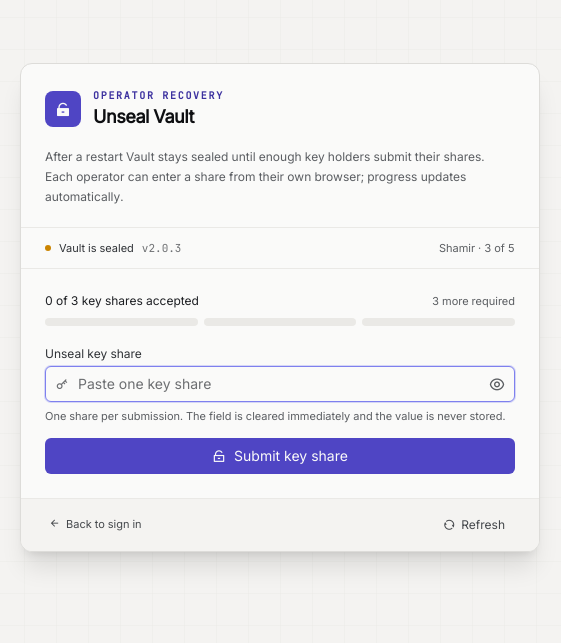
Test case: UnsealPage › collects shares one by one until Vault is unsealed
The image size is (561, 643).
expect the heading "Unseal Vault" is shown: met, box [93,102,194,130]
expect the text "Shamir · 3 of 5" is shown: met, box [439,240,515,256]
Type "9f86d081884c7d659a2feaa0c55ad015a3bf4f1b2b0b822cd15d6c15b0f00a08aa" into the password field labelled "Unseal key share" at (280, 384), box [45,366,515,402]
Click the button "Submit key share" at (280, 456), box [45,438,515,474]
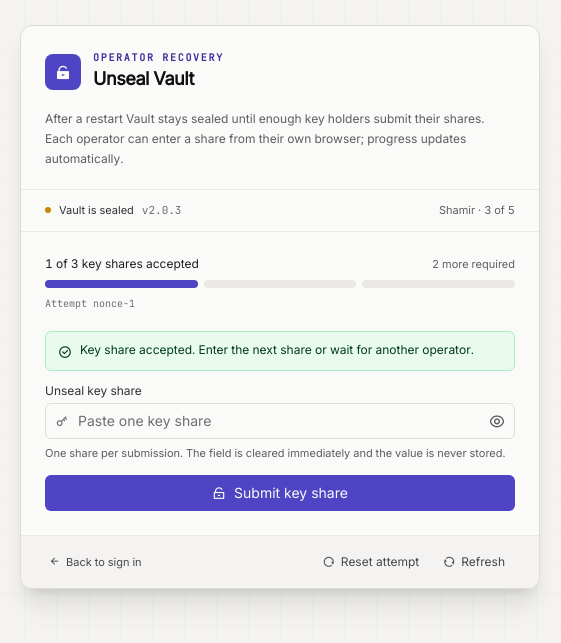
expect the text "Key share accepted" is shown: met, box [80,342,474,357]
expect the password field labelled "Unseal key share" is empty: met
Type "9f86d081884c7d659a2feaa0c55ad015a3bf4f1b2b0b822cd15d6c15b0f00a08aa" into the password field labelled "Unseal key share" at (280, 421), box [45,403,515,439]
Click the button "Submit key share" at (280, 493), box [45,475,515,511]
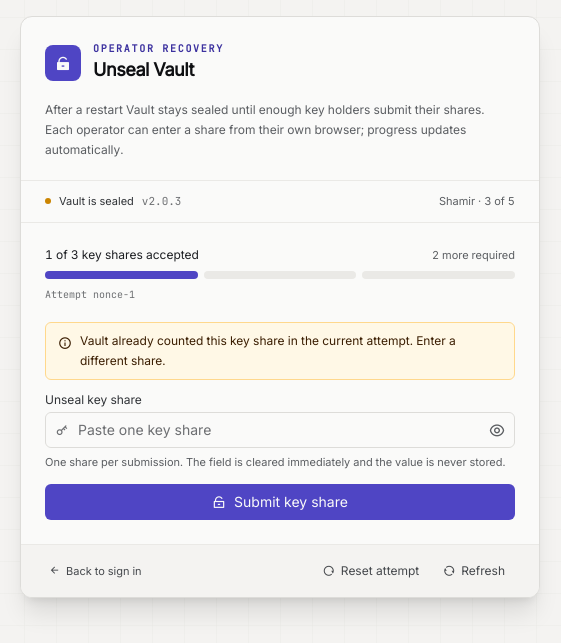
expect the text "already counted this key share" is shown: met, box [80,333,456,368]
Type "60303ae22b998861bce3b28f33eec1be758a213c86c93c076dbe9f558c11c752bb" into the password field labelled "Unseal key share" at (280, 430), box [45,412,515,448]
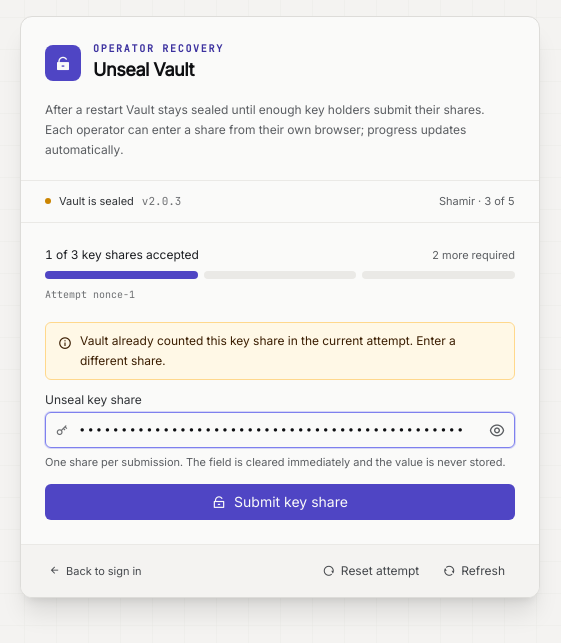
Click the button "Submit key share" at (280, 502), box [45,484,515,520]
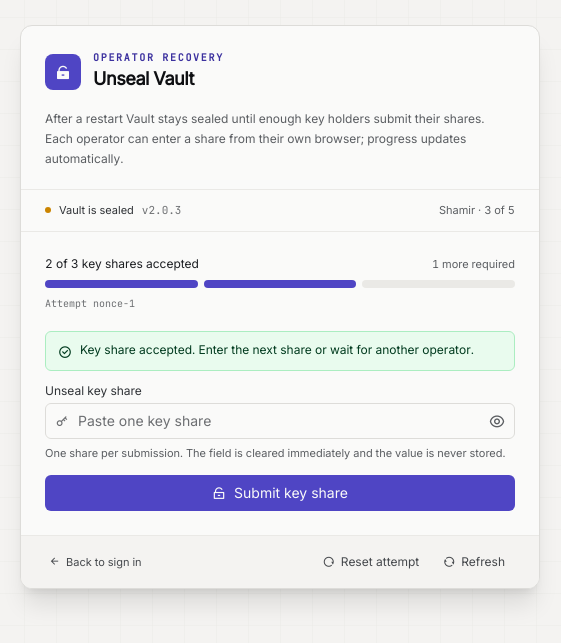
Type "fd61a03af4f77d870fc21e05e7e80678095c92d808cfb3b5c279ee04c74aca13cc" into the password field labelled "Unseal key share" at (280, 421), box [45,403,515,439]
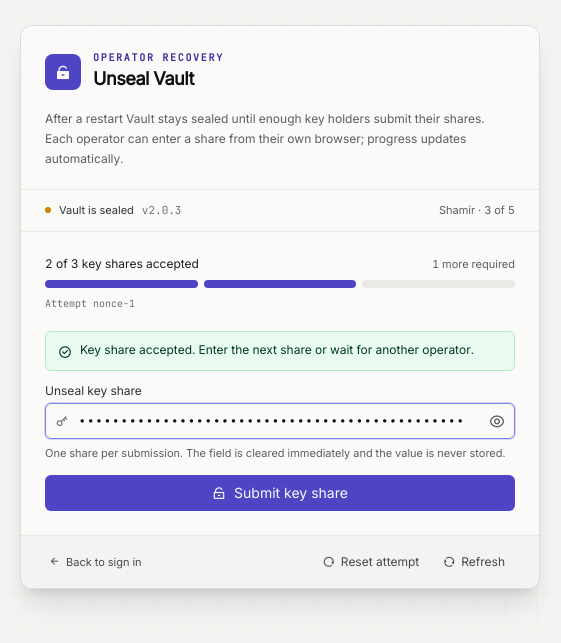
Click the button "Submit key share" at (280, 493), box [45,475,515,511]
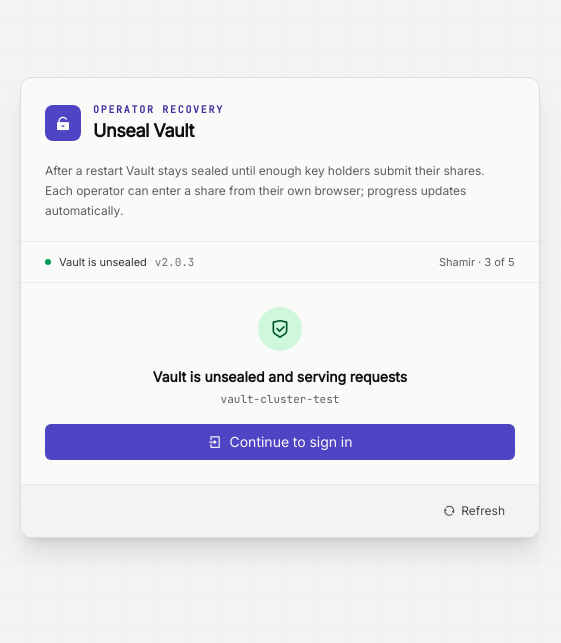
expect the text "Vault is unsealed and serving requests" is shown: met, box [153,368,407,385]
